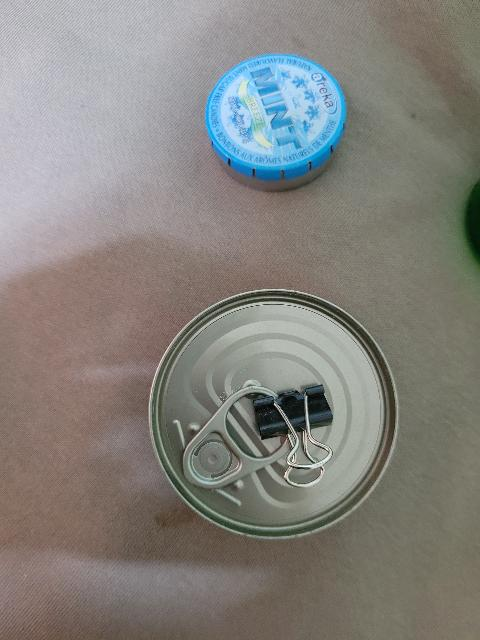Metal: (144, 286, 406, 539), (202, 51, 352, 198), (251, 383, 343, 489)
